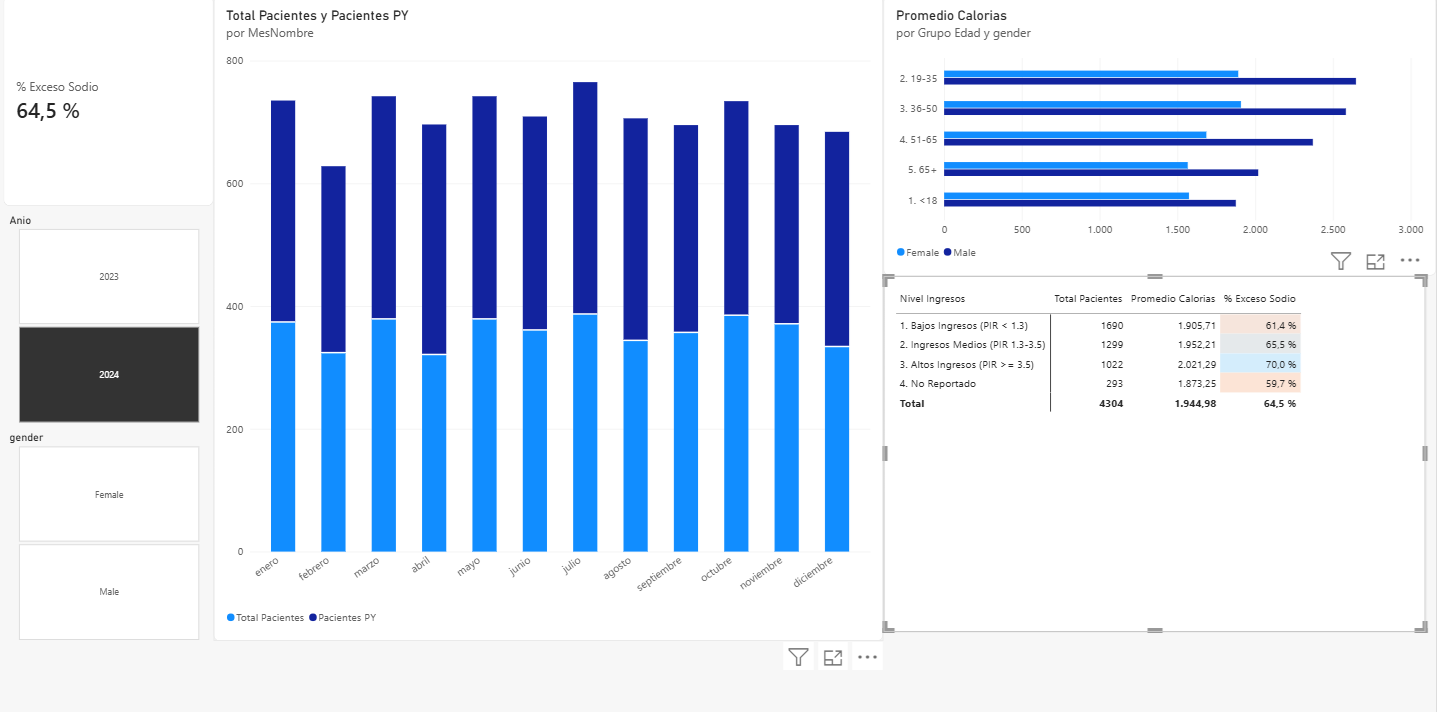

Layout of this report page (visuals, bound fields, positions):
{"tool":"powerbi","page":{"name":"Página 1","canvas":[1920,1080],"ordinal":0},"visuals":[{"type":"cardVisual","fields":{"Data":["Pacientes.% Exceso Sodio"]},"box":[10,0,280,280],"z":0},{"type":"slicer","fields":{"Values":["Calendario.Anio"]},"box":[10,290,280,280],"z":1},{"type":"slicer","fields":{"Values":["Pacientes.gender"]},"box":[10,580,280,280],"z":2},{"type":"columnChart","fields":{"Category":["Calendario.MesNombre"],"Y":["Pacientes.Total Pacientes","Pacientes.Pacientes PY"]},"box":[320,372.9,892.9,598.6],"z":3},{"type":"clusteredBarChart","fields":{"Category":["Pacientes.Grupo Edad"],"Series":["Pacientes.gender"],"Y":["Pacientes.Promedio Calorias"]},"box":[1223,0,280,280],"z":4},{"type":"pivotTable","fields":{"Rows":["Pacientes.Nivel Ingresos"],"Values":["Pacientes.Total Pacientes","Pacientes.Promedio Calorias","Pacientes.% Exceso Sodio"]},"box":[1222.9,372.9,655.7,335.7],"z":5}]}

Visuals, with their boxes on the page's 1920x1080 design canvas (x1, y1, x2, y2). These are canvas units, not pixel positions in the 1437x712 screenshot, which may show the page scaled, cropped or inside an application window:
cardVisual - Pacientes.% Exceso Sodio: detection(10, 0, 290, 280)
slicer - Calendario.Anio: detection(10, 290, 290, 570)
slicer - Pacientes.gender: detection(10, 580, 290, 860)
columnChart - Calendario.MesNombre x Pacientes.Total Pacientes: detection(320, 373, 1213, 972)
clusteredBarChart - Pacientes.Grupo Edad x Pacientes.gender: detection(1223, 0, 1503, 280)
pivotTable - Pacientes.Nivel Ingresos x Pacientes.Total Pacientes: detection(1223, 373, 1879, 709)
